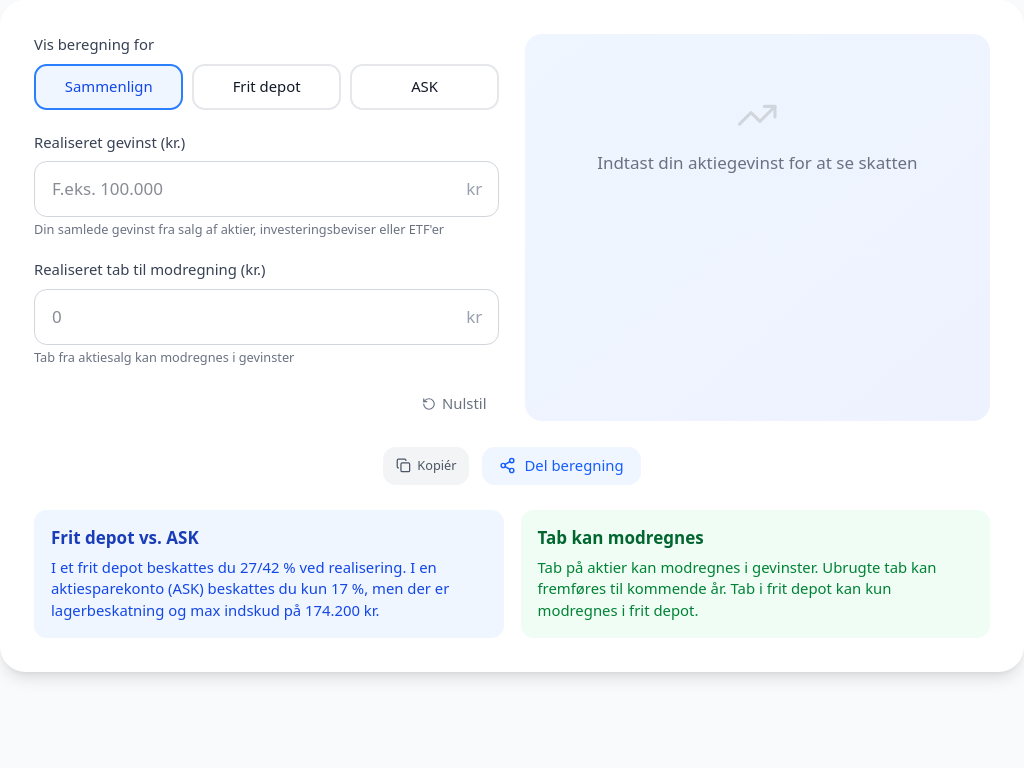
Scenario: decimal-komma — procenter i dansk og svensk tekst › /aktieskat (effektiv sats) › da: den effektive sats skriver komma og mellemrum
This screenshot has width=1024, height=768.
Type "50000" into the number field with id "aktieskat-gevinst" at {"x": 267, "y": 189}, box [34,161,499,217]
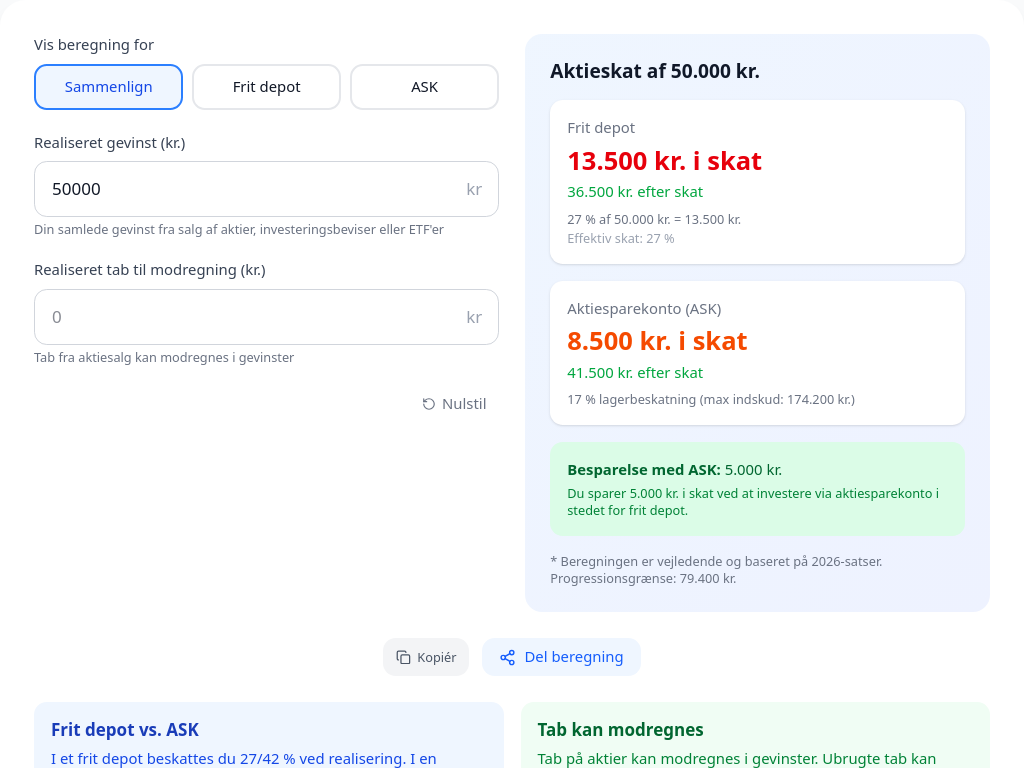
Expected: the text "Effektiv skat: 27 %" is shown, [567,229,675,247]
